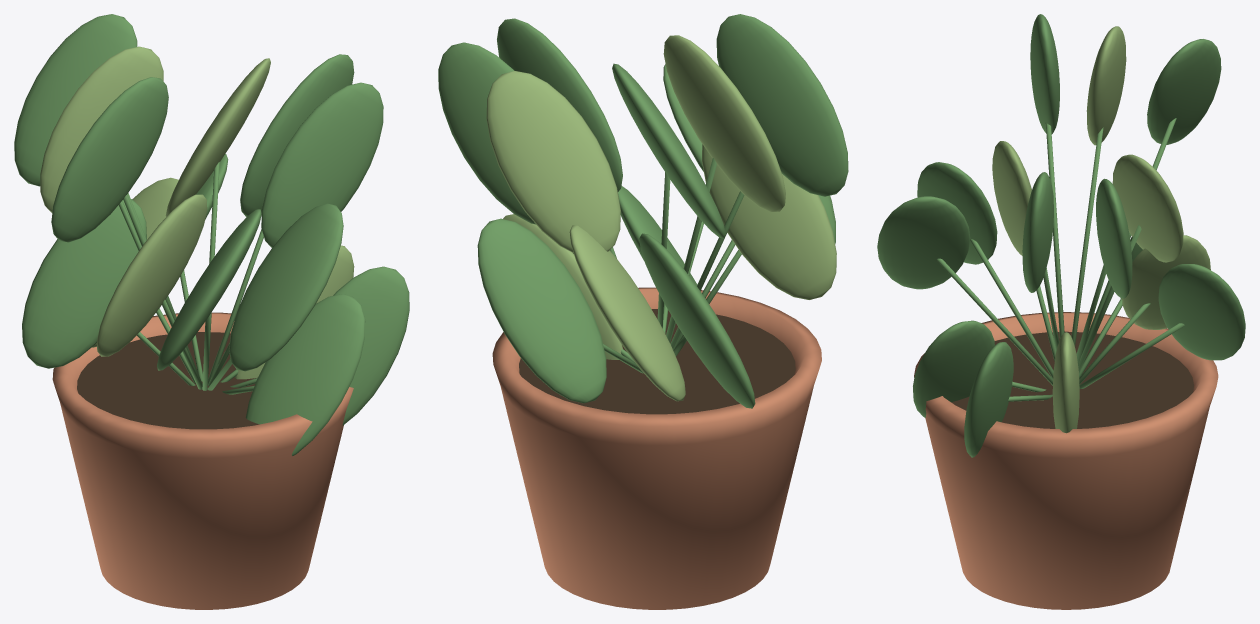
The model's file is Plant.glb.
3 views of the same model, side by side, from view 1: azimuth 30°, elevation 25°; view 2: azimuth 150°, elevation 25°; view 3: azimuth 270°, elevation 25° (orthographic). The views are drawn at different scales.
Visible parts, largest first — view 1: Plant_Mesh; view 2: Plant_Mesh; view 3: Plant_Mesh.
Boxes of the visible parts, x1,y1,x2,y2 form: Plant_Mesh: [14, 14, 409, 609]; Plant_Mesh: [438, 14, 848, 609]; Plant_Mesh: [877, 14, 1245, 609].
Size of the model in its own units: 0.5261 by 0.7588 by 0.4935.
